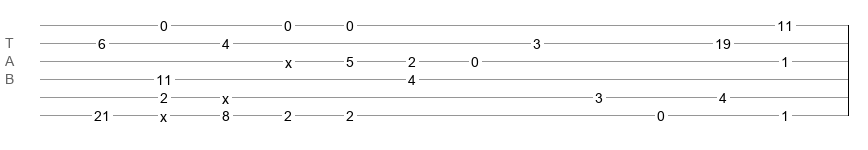0: (160, 18, 168, 28), (284, 18, 292, 28), (346, 18, 354, 28), (471, 54, 479, 64), (657, 108, 665, 118)
1: (781, 108, 789, 118), (781, 54, 789, 64)
11: (156, 72, 172, 82), (777, 18, 793, 28)
19: (715, 36, 731, 46)
2: (160, 90, 168, 100), (284, 108, 292, 118), (346, 108, 354, 118), (408, 54, 416, 64)
21: (94, 108, 110, 118)
3: (533, 36, 541, 46), (595, 90, 603, 100)
4: (222, 36, 230, 46), (408, 72, 416, 82), (719, 90, 727, 100)
5: (346, 54, 354, 64)
6: (98, 36, 106, 46)
8: (222, 108, 230, 118)
x: (160, 109, 167, 117), (222, 91, 229, 99), (285, 55, 292, 63)
